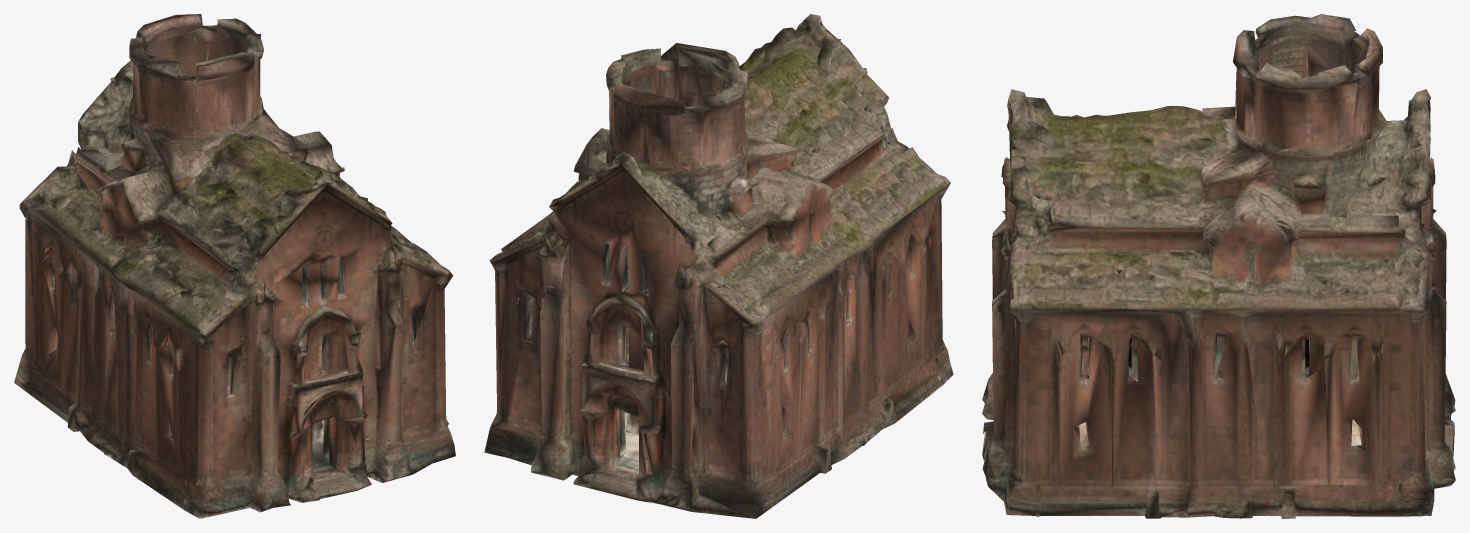
Rendered from city_kars_ani_church.glb.
3 renders of one model, left to right at view 1: azimuth 30°, elevation 25°; view 2: azimuth 150°, elevation 25°; view 3: azimuth 270°, elevation 25°, orthographic. The views are drawn at different scales.
Parts seen in each view (by area): view 1: Mesh1.0; view 2: Mesh1.0; view 3: Mesh1.0.
Boxes of the visible parts, x1=… form: Mesh1.0: x1=14, y1=14, x2=455, y2=518; Mesh1.0: x1=484, y1=14, x2=953, y2=518; Mesh1.0: x1=982, y1=14, x2=1455, y2=518.
Bounding box in the file's own units: 8.8 × 11 × 11.78.
1 material, 1 textured.
